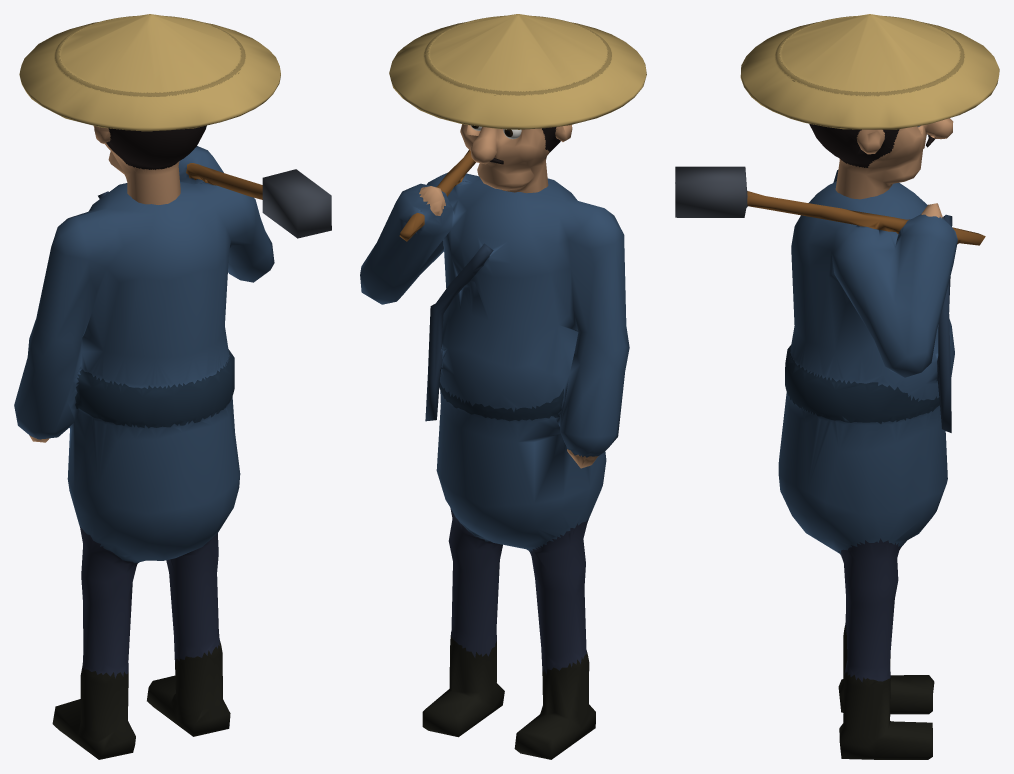
File: crew-a.glb
The picture shows the model from 3 angles, left to right: view 1: azimuth 30°, elevation 25°; view 2: azimuth 150°, elevation 25°; view 3: azimuth 270°, elevation 25°; orthographic projection.
Visible parts, largest first — view 1: body_lod0, head_lod0; view 2: body_lod0, head_lod0; view 3: body_lod0, head_lod0.
Part boxes in pixels (x1,y1,x2,y2): body_lod0: (14, 146, 331, 759); head_lod0: (19, 14, 280, 204); body_lod0: (360, 150, 629, 759); head_lod0: (389, 14, 646, 193); body_lod0: (675, 166, 985, 759); head_lod0: (740, 14, 999, 199).
Size of what is drawn, in the model's own units: 0.7334 by 1.98 by 0.811.
